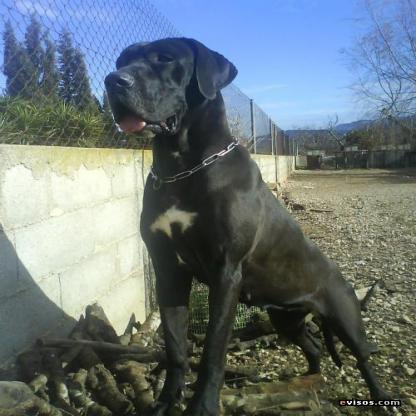Great_Dane: (100, 37, 403, 412)
